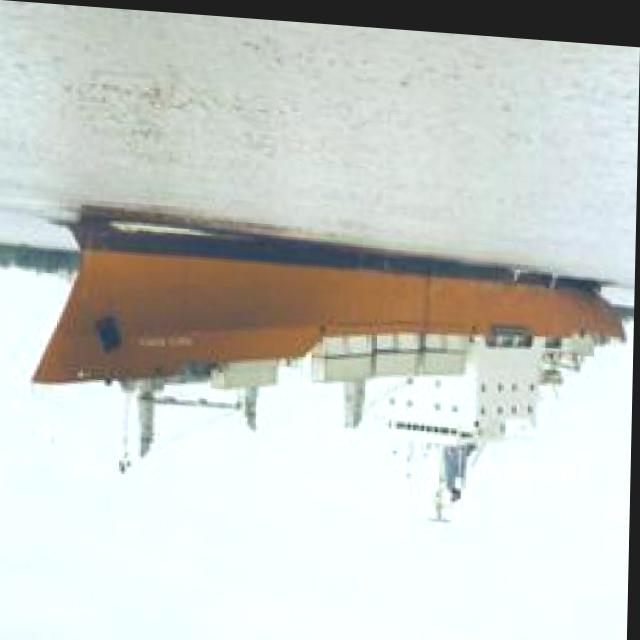ship2: (30, 206, 629, 516)
